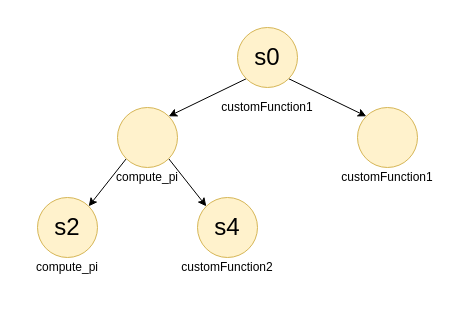
The diagram is 464 pixels wide and 324 high, and some of its shapes have lost their labels. Each missing label, with the centre of its shape:
s1: (147,137)
s3: (387,137)
